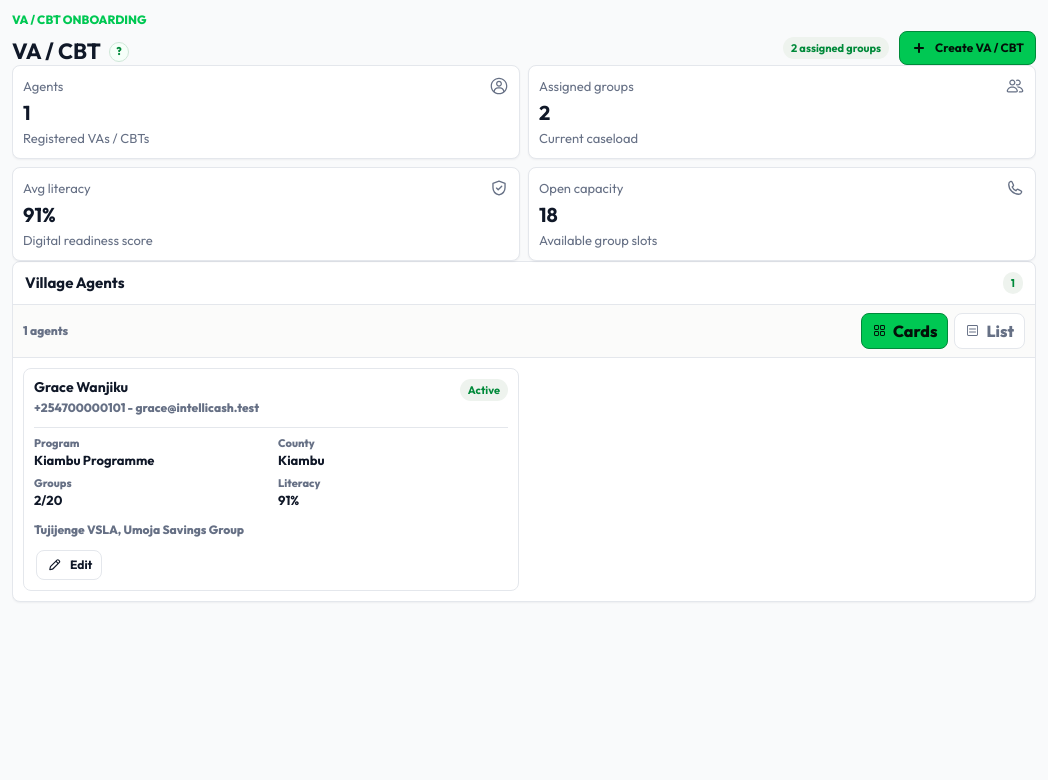
Test: web smoke helpers › renders VA / CBT edit controls for write users
Check: the heading "Grace Wanjiku" is shown, box [34,378,128,396]
Click the button "List" at x=990, y=331, box [954,313,1025,349]
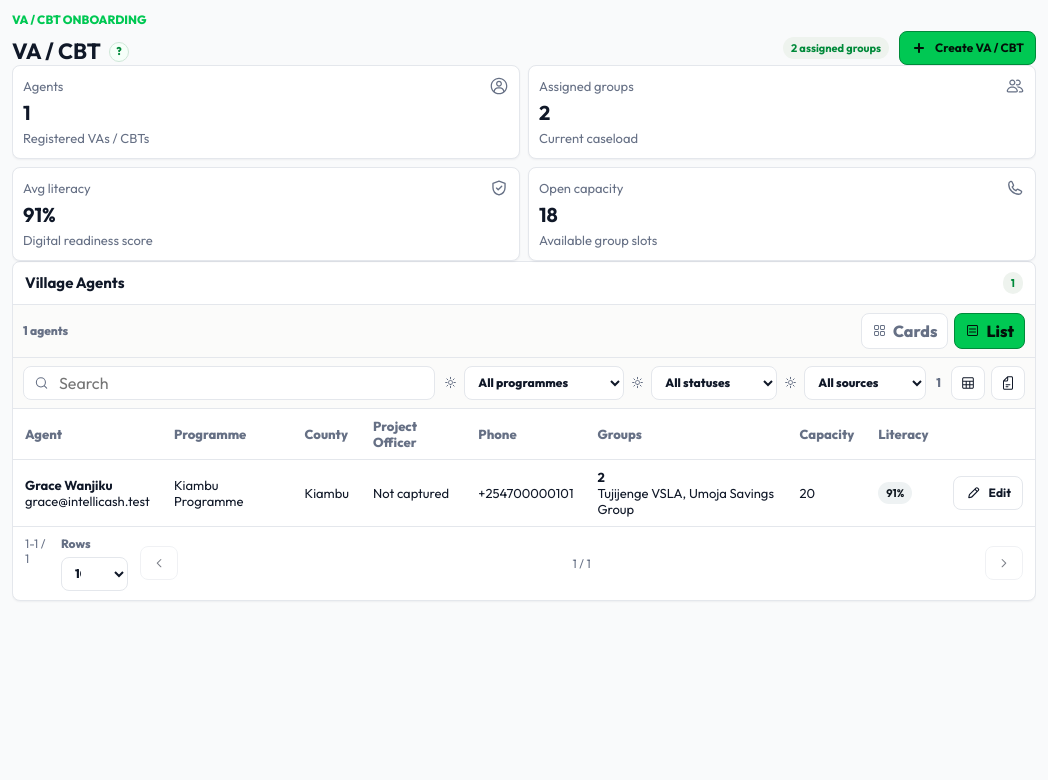
Check: the button "Create VA / CBT" is shown, box [899,31,1036,65]
Check: the field with placeholder "Search" is shown, box [57,372,424,394]
